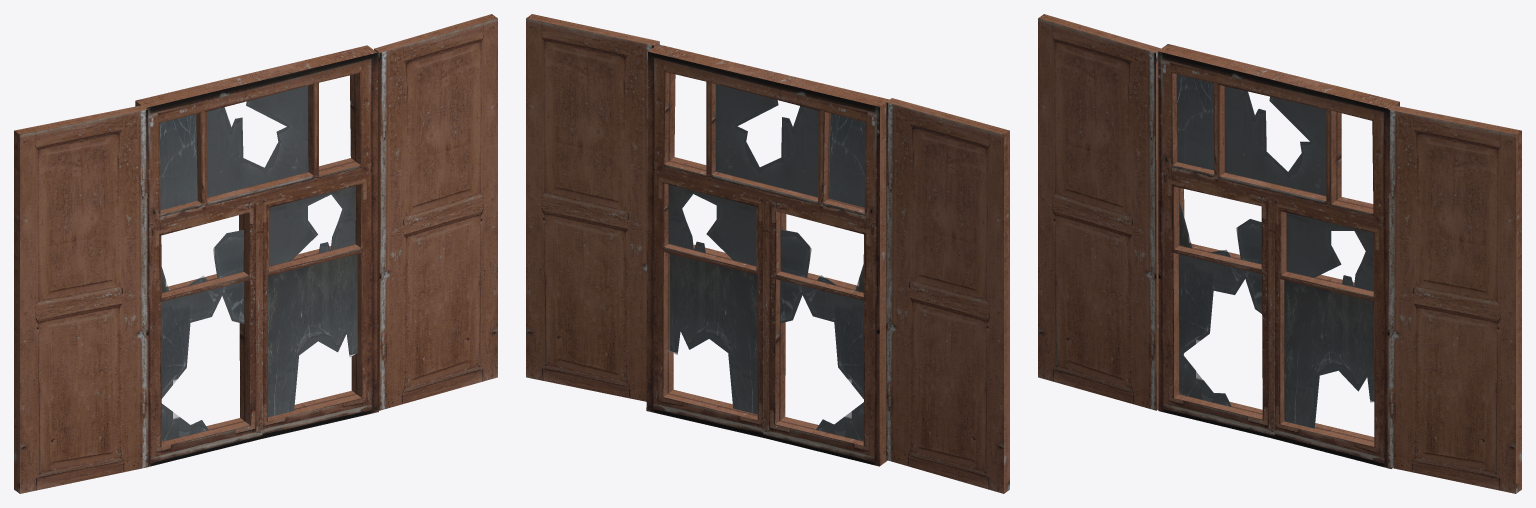
Rendered from Windows_06.fbx.
3 renders of one model, left to right at view 1: azimuth 30°, elevation 25°; view 2: azimuth 150°, elevation 25°; view 3: azimuth 330°, elevation 25°, orthographic.
Visible parts, largest first — view 1: Windows_06, Windows_06glass (×6); view 2: Windows_06, Windows_06glass (×6); view 3: Windows_06, Windows_06glass (×6).
Boxes of the visible parts, x1,y1,x2,y2 form: Windows_06: [14, 14, 497, 493]; Windows_06glass (×6): [159, 85, 357, 441]; Windows_06: [526, 14, 1009, 493]; Windows_06glass (×6): [668, 84, 865, 441]; Windows_06: [1038, 14, 1521, 493]; Windows_06glass (×6): [1176, 74, 1374, 428].
Size of the model in its own units: 202 by 9.02 by 146.
2 materials, 2 textured.
